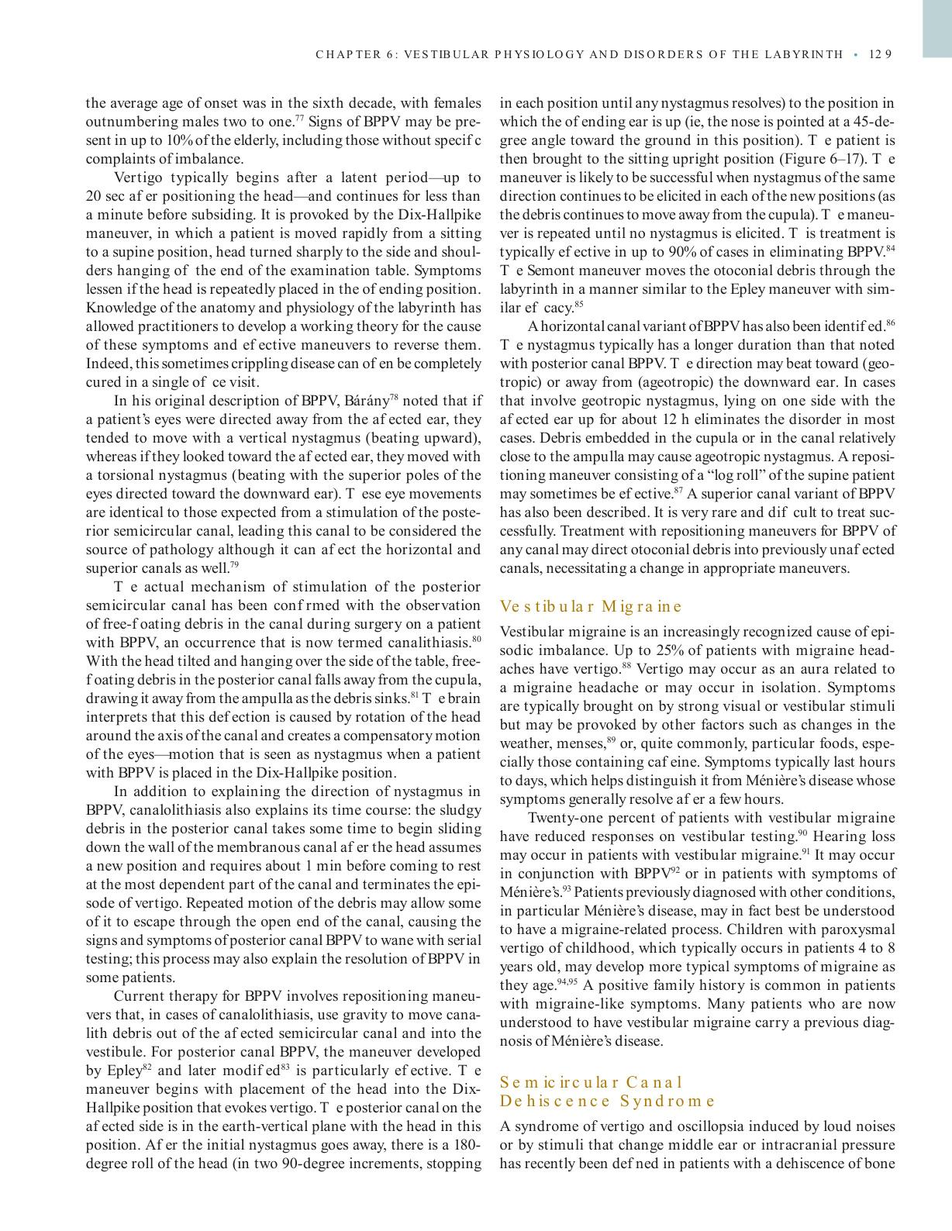header: (313, 47, 844, 60)
sub-section-heading: (498, 1073, 717, 1112), (498, 597, 683, 617)
text: (82, 94, 484, 1175), (498, 93, 900, 579), (498, 620, 898, 1051), (498, 1118, 897, 1175)
